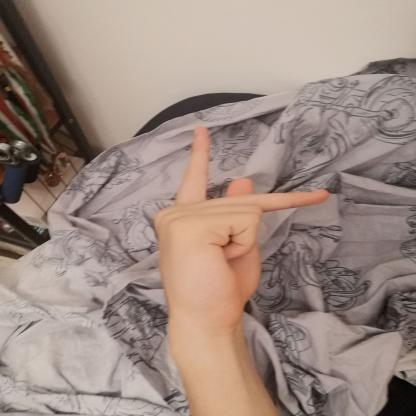DHAA: (136, 112, 338, 335)
